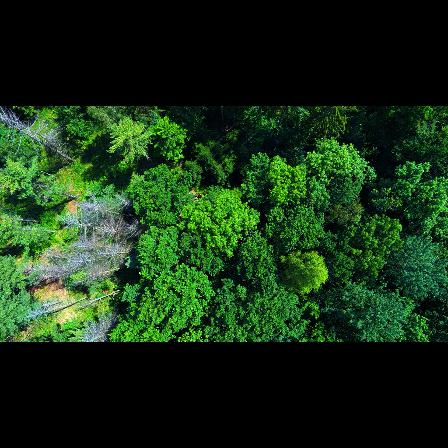Dead: (0, 110, 77, 165), (79, 312, 126, 342), (29, 296, 84, 318), (19, 261, 77, 281), (56, 212, 107, 234), (82, 197, 127, 220), (82, 264, 126, 287), (97, 219, 135, 240), (63, 253, 112, 268), (95, 247, 133, 262)
